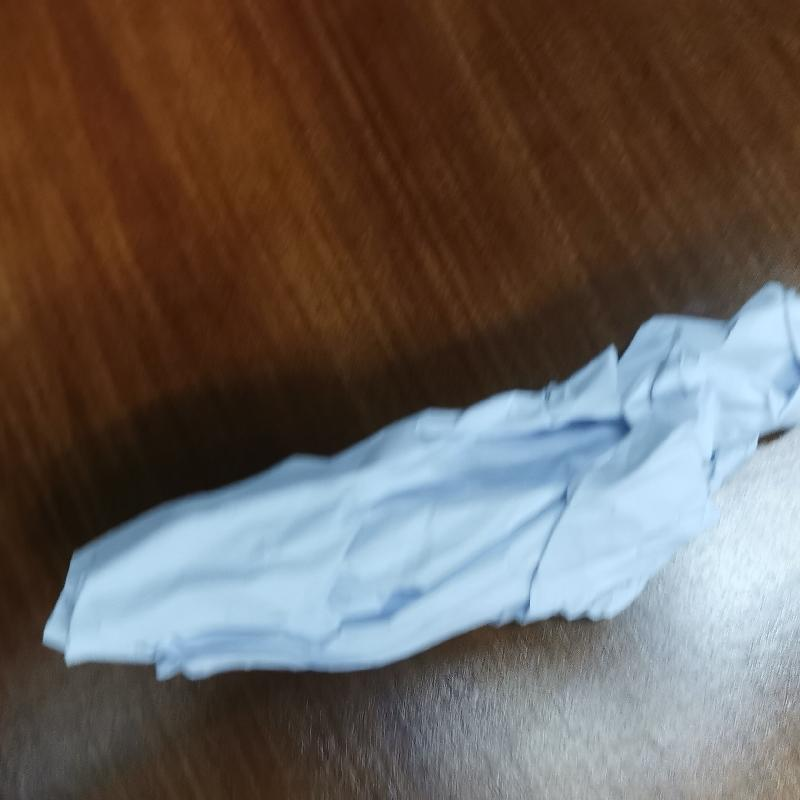spitball: (37, 279, 799, 691)
